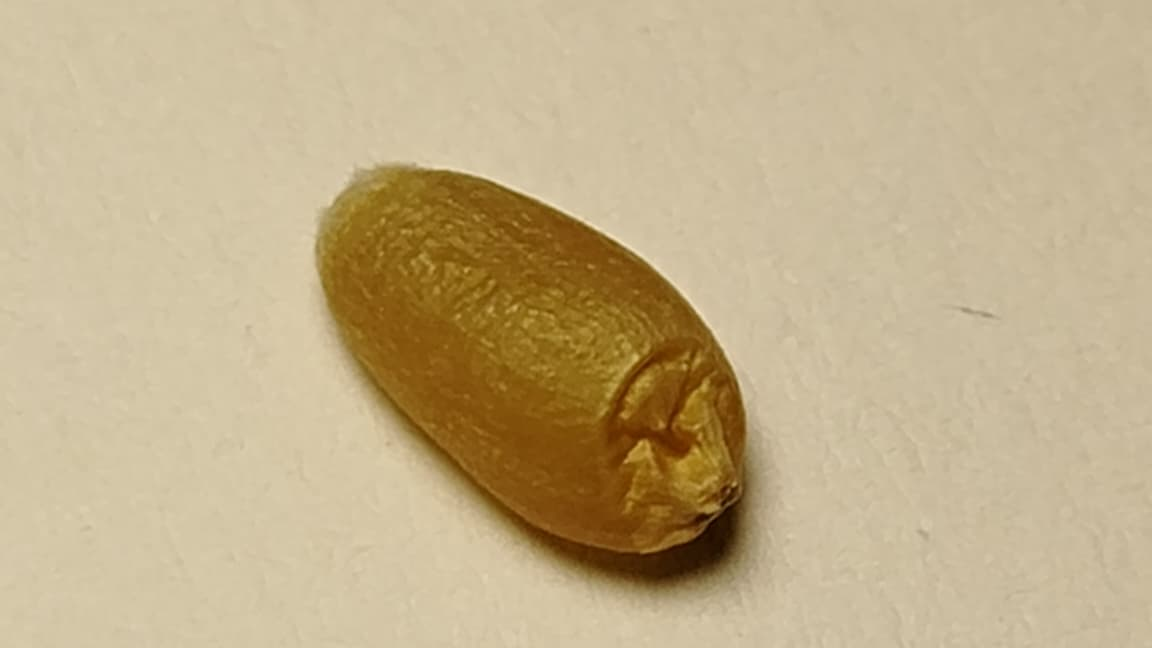healthy: (318, 166, 744, 552)
